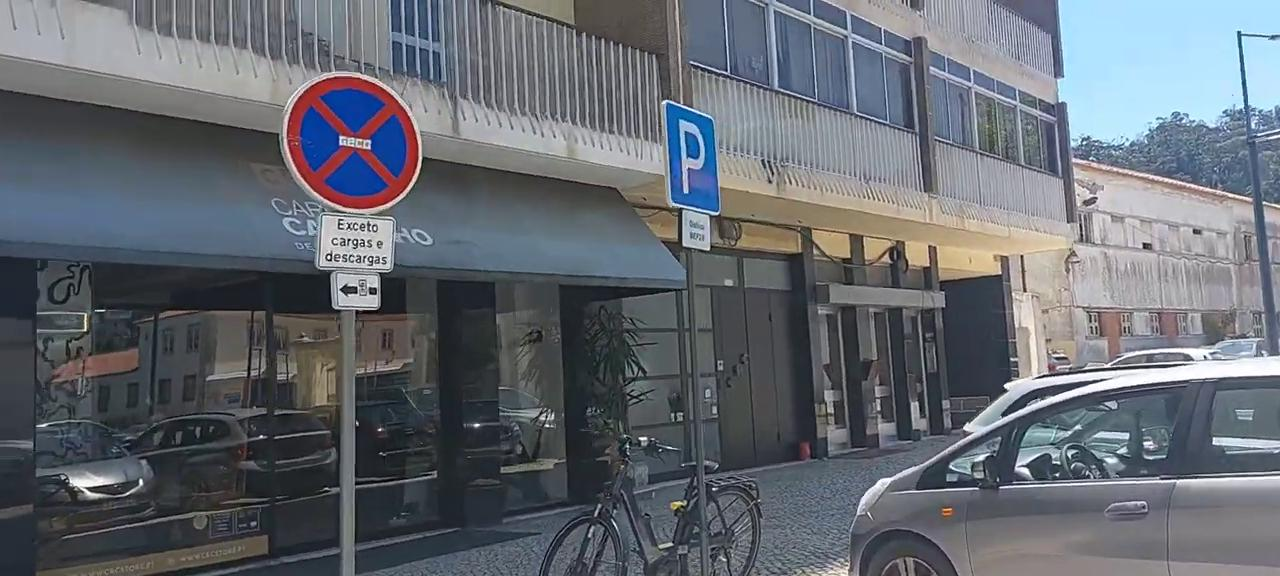Estacionamento autorizado: (659, 99, 725, 213)
paragem e estacionamento proibido: (250, 43, 452, 247)
